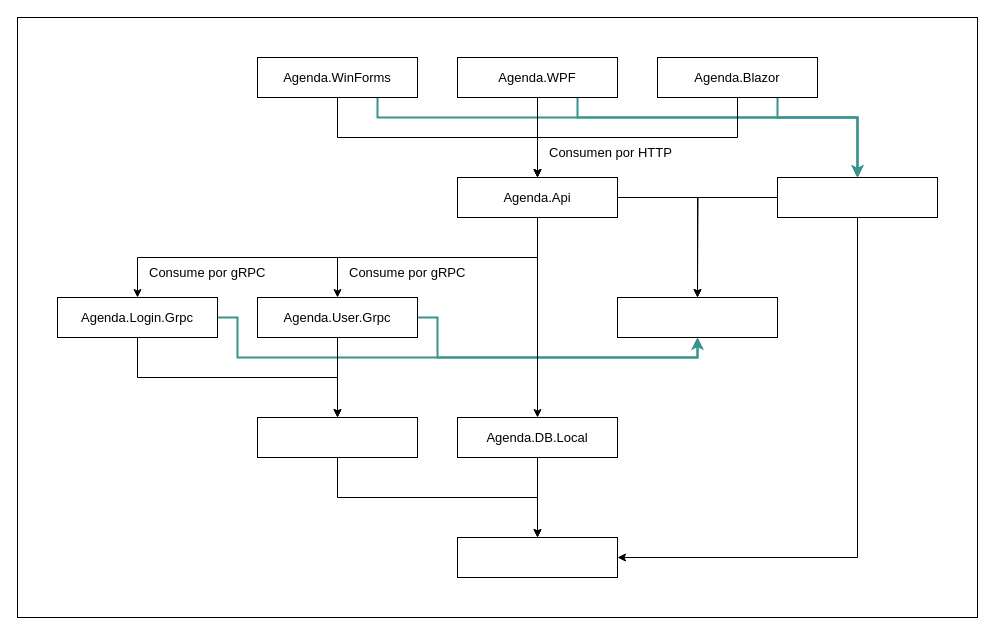
This 995x635 diagram has some shape labels left out. The shapes that lost their labels are listed below. From the top down, each one's centre as x and y in pixels, then its label:
point 857,197: Agenda.UI.Common
point 697,317: Agenda.Common
point 337,437: Agenda.UserDb.Local
point 537,557: Agenda.Domain
